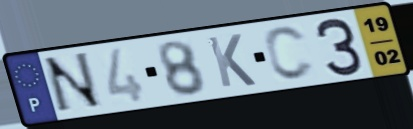3: (312, 15, 363, 78)
4: (104, 46, 147, 105)
8: (157, 39, 207, 98)
C: (261, 24, 318, 83)
K: (204, 32, 259, 90)
N: (40, 50, 107, 116)
